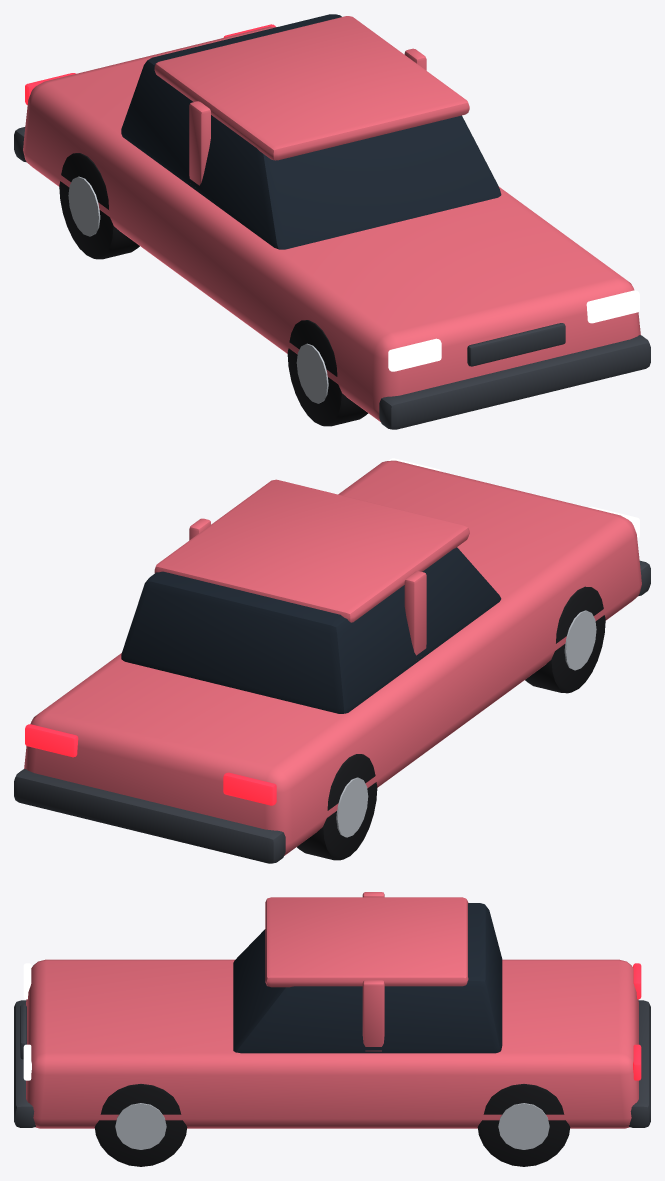
The model's file is roadsterRushSedan.glb.
3 renders of one model, top to bottom at view 1: azimuth 30°, elevation 25°; view 2: azimuth 150°, elevation 25°; view 3: azimuth 270°, elevation 25°, orthographic. The views are drawn at different scales.
Parts seen in each view (by area): view 1: sedan; view 2: sedan; view 3: sedan.
Part boxes in pixels (x1,y1,x2,y2): sedan: (14, 14, 650, 429); sedan: (14, 458, 650, 863); sedan: (14, 892, 650, 1166).
Size of the model in its own units: 1.9 by 1.43 by 4.64.
